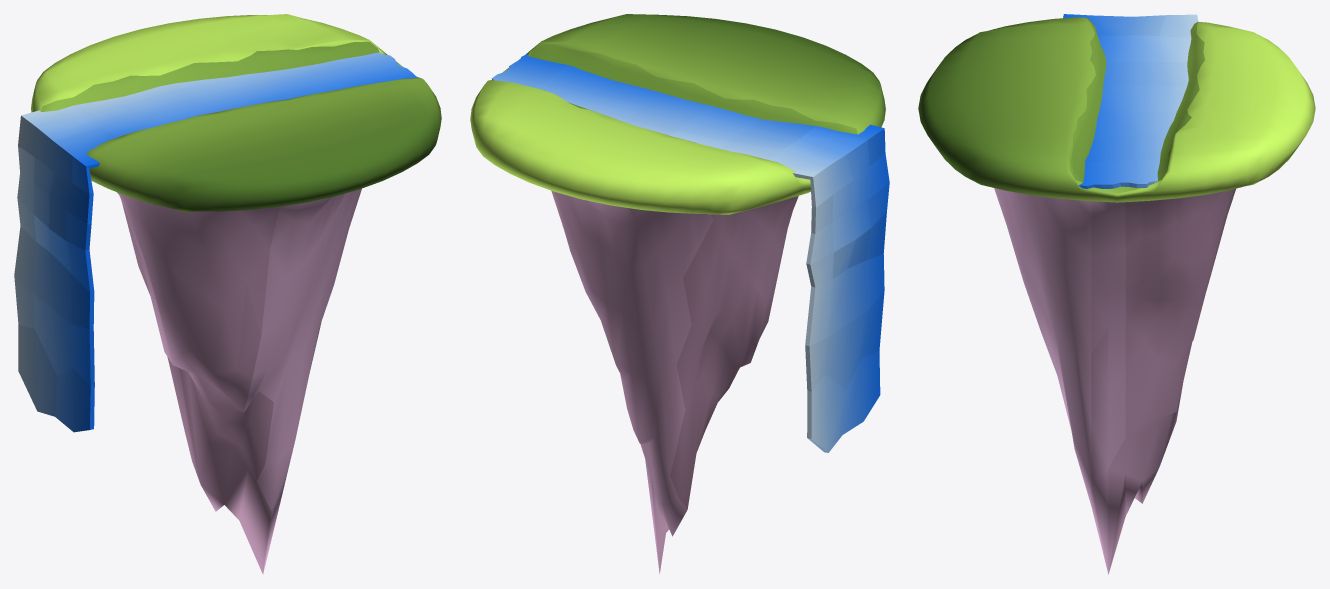
Rendered from Env_Island.fbx.
3 views of the same model, side by side, from view 1: azimuth 30°, elevation 25°; view 2: azimuth 150°, elevation 25°; view 3: azimuth 270°, elevation 25° (orthographic). The views are drawn at different scales.
Visible parts, largest first — view 1: Ground, Rock, Water; view 2: Ground, Rock, Water; view 3: Ground, Rock, Water.
Boxes of the visible parts, left/top/right/bottom form: Ground: left=31, top=14, right=441, bottom=212; Rock: left=117, top=188, right=361, bottom=574; Water: left=14, top=52, right=418, bottom=432; Ground: left=470, top=14, right=885, bottom=214; Rock: left=551, top=191, right=798, bottom=573; Water: left=491, top=54, right=889, bottom=452; Ground: left=918, top=17, right=1315, bottom=202; Rock: left=994, top=188, right=1235, bottom=574; Water: left=1063, top=14, right=1198, bottom=188.
Size of the model in its own units: 3.37 by 4.37 by 3.31.
Materials: 1 (1 with a texture image).
